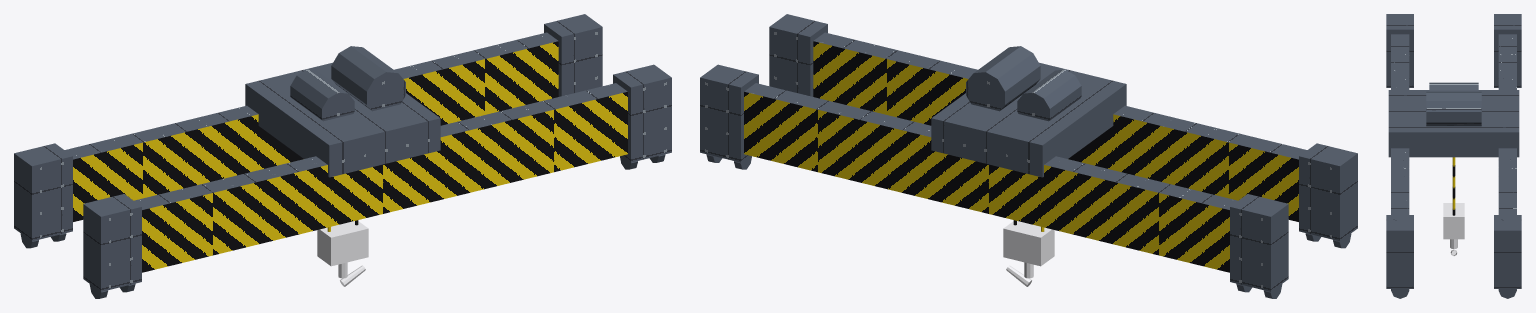
File: bridge_crane.glb
The picture shows the model from 3 angles, left to right: view 1: azimuth 30°, elevation 25°; view 2: azimuth 150°, elevation 25°; view 3: azimuth 270°, elevation 25°; orthographic projection. The views are drawn at different scales.
Parts seen in each view (by area): view 1: bridge_crane; view 2: bridge_crane; view 3: bridge_crane.
Boxes of the visible parts, x1,y1,x2,y2 form: bridge_crane: (14, 14, 671, 298); bridge_crane: (700, 14, 1357, 298); bridge_crane: (1386, 14, 1521, 298).
Size of the model in its own units: 3.34 by 1.24 by 0.88.
Materials: 3 (2 with a texture image).
